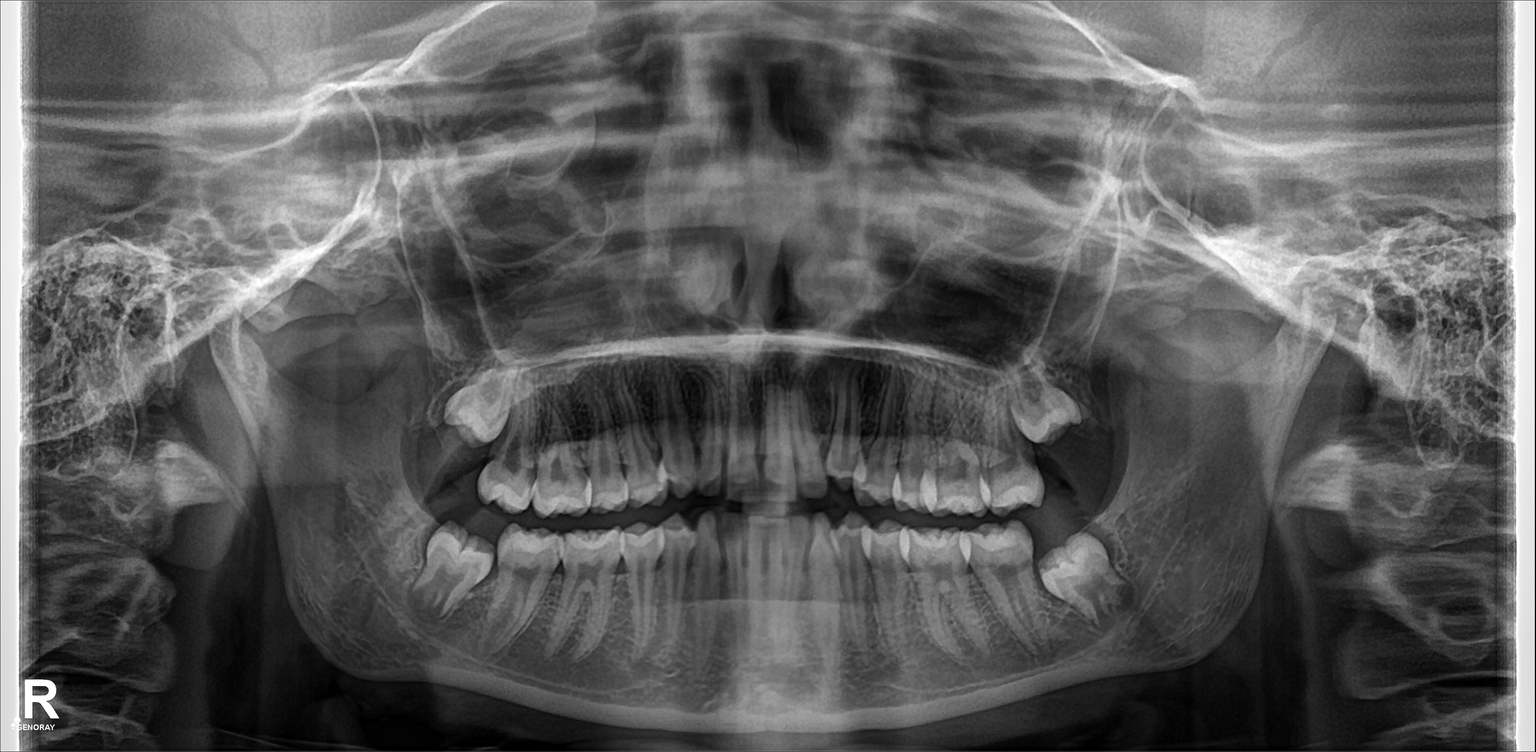Dental Caries: (935, 449, 976, 489)
Impacted Third Molar: (1035, 538, 1126, 608), (1002, 367, 1088, 432), (436, 367, 502, 439), (425, 536, 486, 603)
